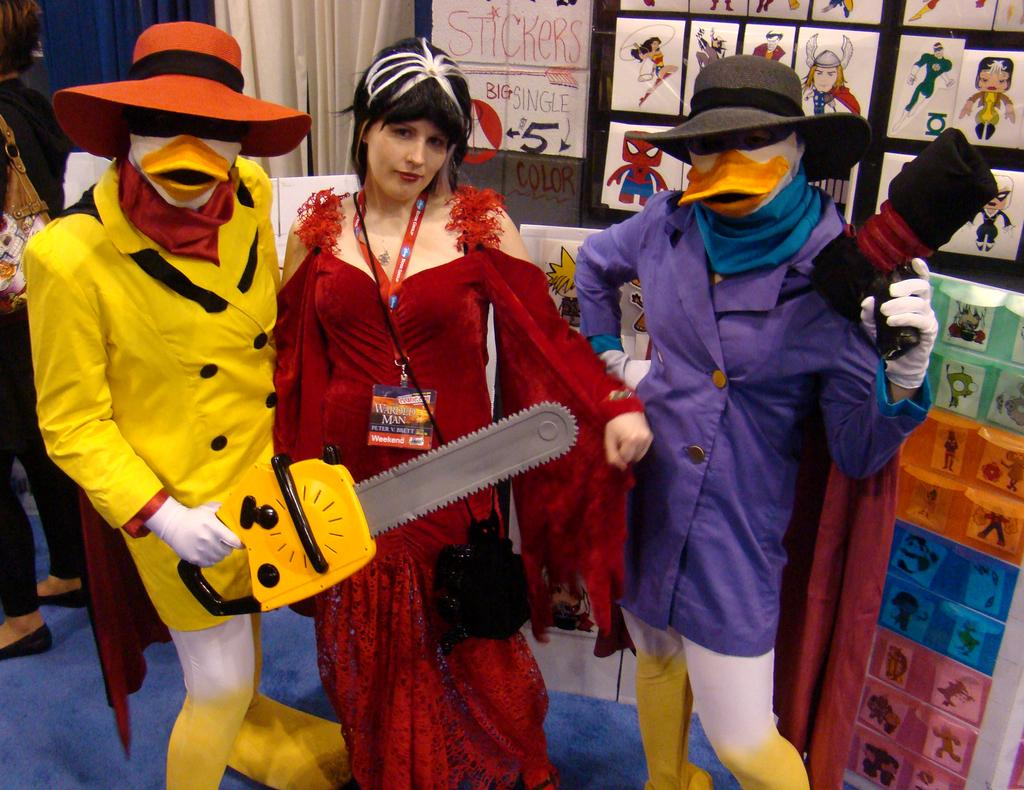Hat: (55, 20, 314, 158), (626, 52, 874, 166), (615, 23, 679, 60)
